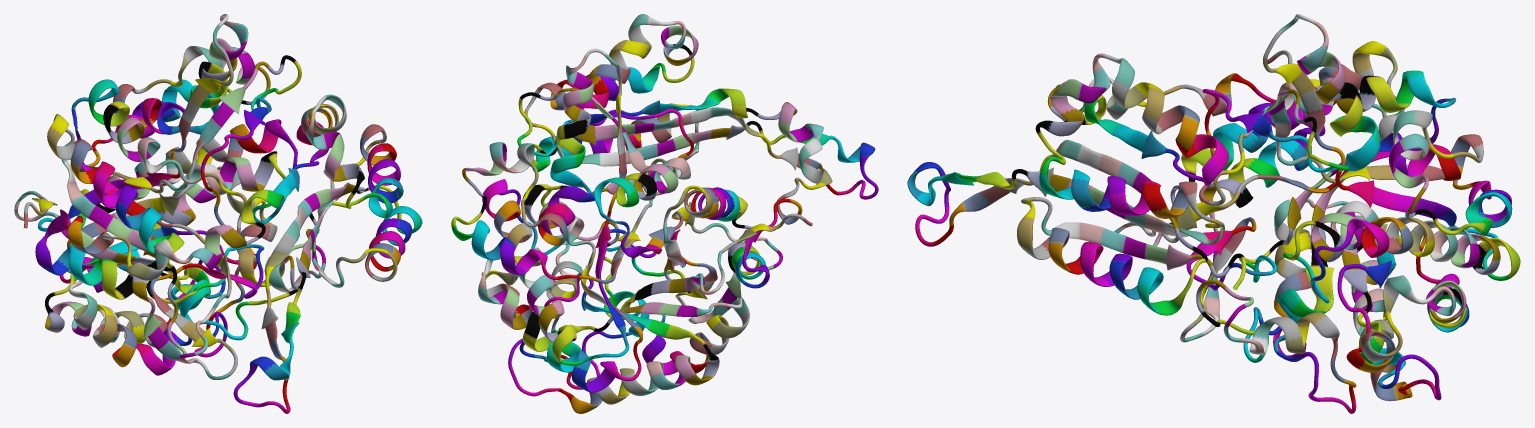
Rendered from protein2.glb.
3 views of the same model, side by side, from view 1: azimuth 30°, elevation 25°; view 2: azimuth 150°, elevation 25°; view 3: azimuth 270°, elevation 25° (orthographic). The views are drawn at different scales.
Visible parts, largest first — view 1: protein2; view 2: protein2; view 3: protein2.
Boxes of the visible parts, left/top/right/bottom form: protein2: left=14, top=14, right=422, bottom=413; protein2: left=451, top=14, right=878, bottom=413; protein2: left=907, top=14, right=1520, bottom=413.
Size of the model in its own units: 2.24 by 2.17 by 2.99.
